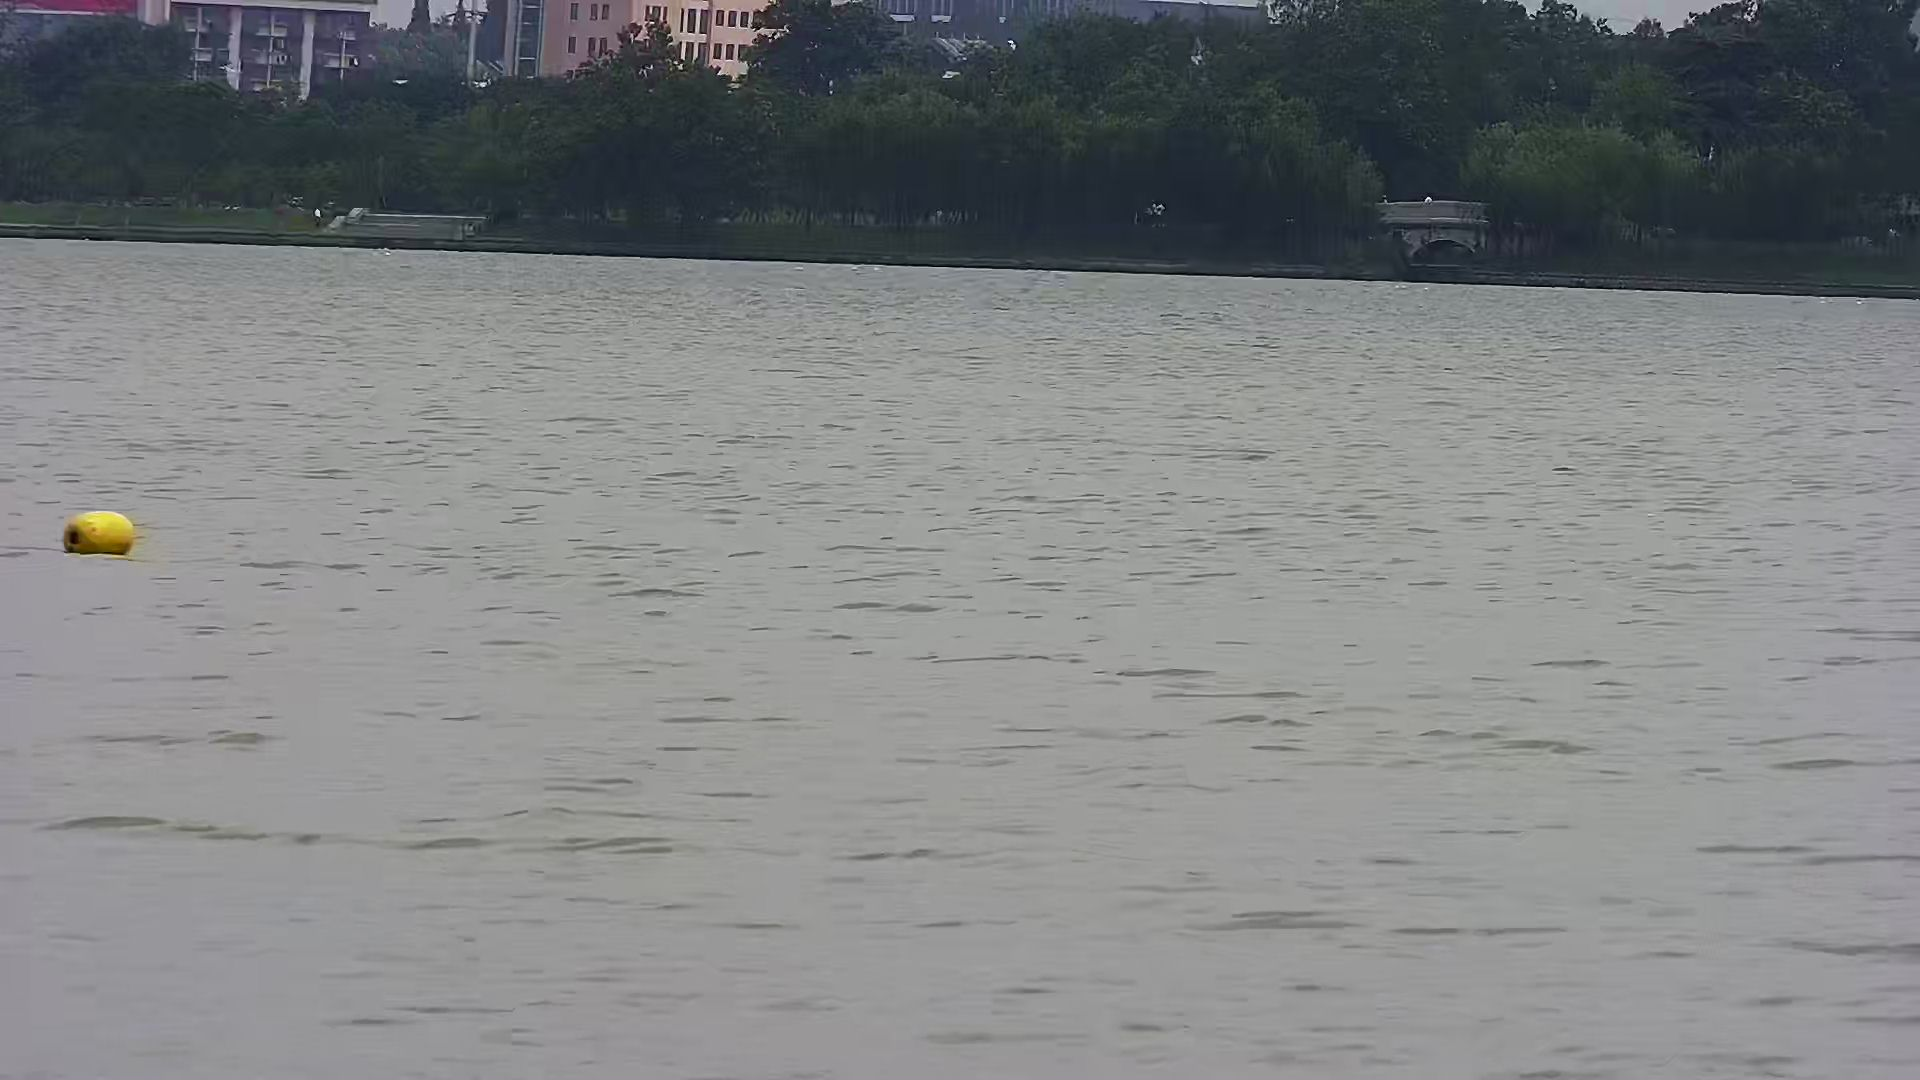rubbish: (58, 504, 144, 564)
